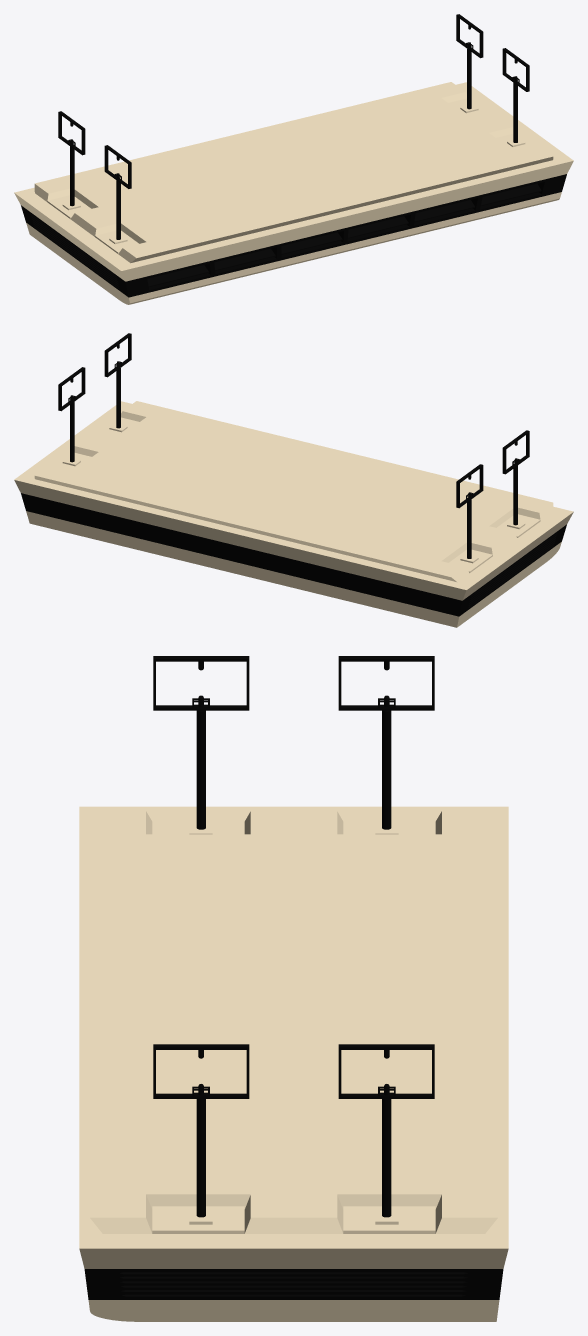
3 views of the same model, one above another, from view 1: azimuth 30°, elevation 25°; view 2: azimuth 150°, elevation 25°; view 3: azimuth 270°, elevation 25° (orthographic). The views are drawn at different scales.
Visible parts, largest first — view 1: Cube.085; view 2: Cube.085; view 3: Cube.085.
Boxes of the visible parts, <box> form: Cube.085: <box>14,14,573,304</box>; Cube.085: <box>14,333,573,627</box>; Cube.085: <box>79,656,508,1321</box>.
Bounding box in the file's own units: 1181 × 326 × 485.
